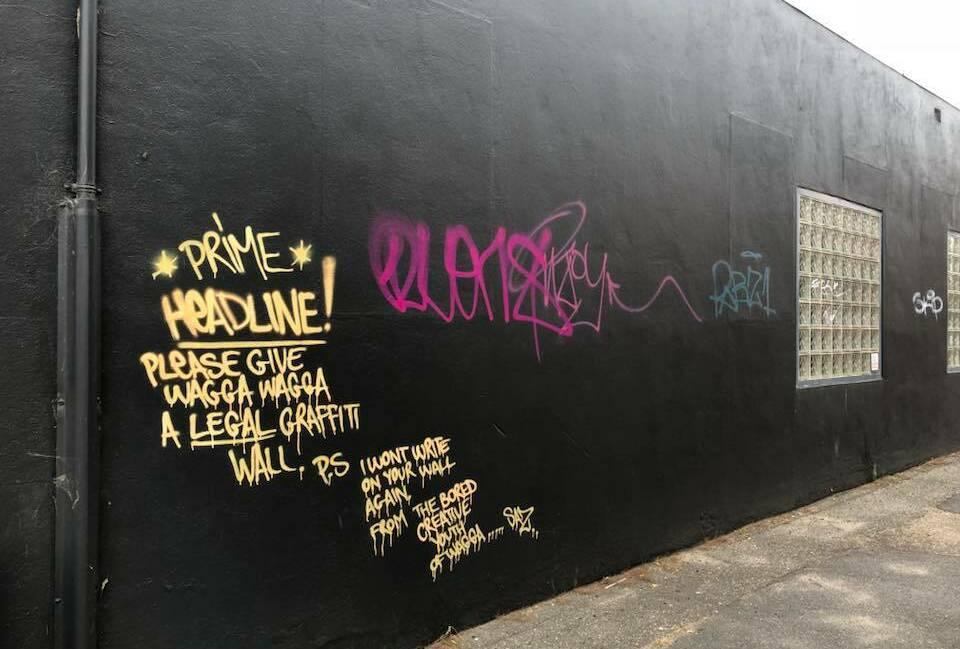graffiti: (139, 213, 359, 485), (370, 206, 690, 348), (355, 448, 535, 564), (705, 258, 782, 321), (917, 284, 933, 319)
